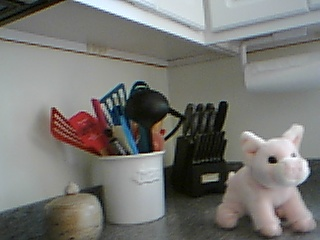piggy: (215, 123, 318, 238)
